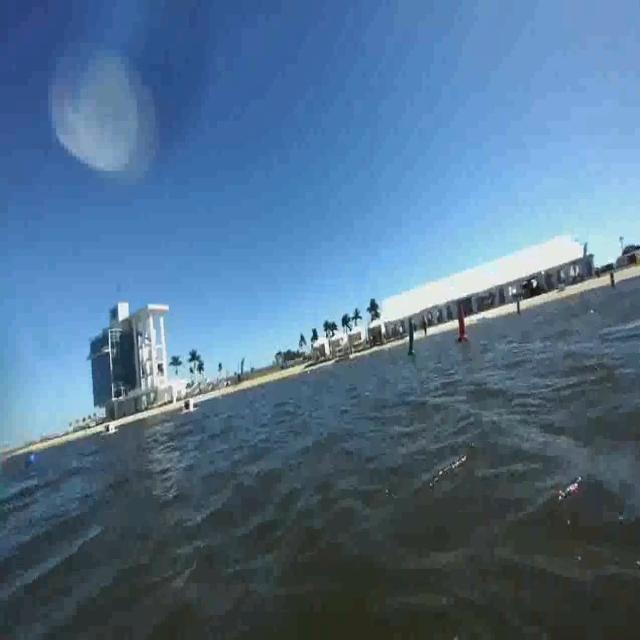green-column-buoy: (407, 320, 418, 358)
red-column-buoy: (457, 303, 469, 344)
